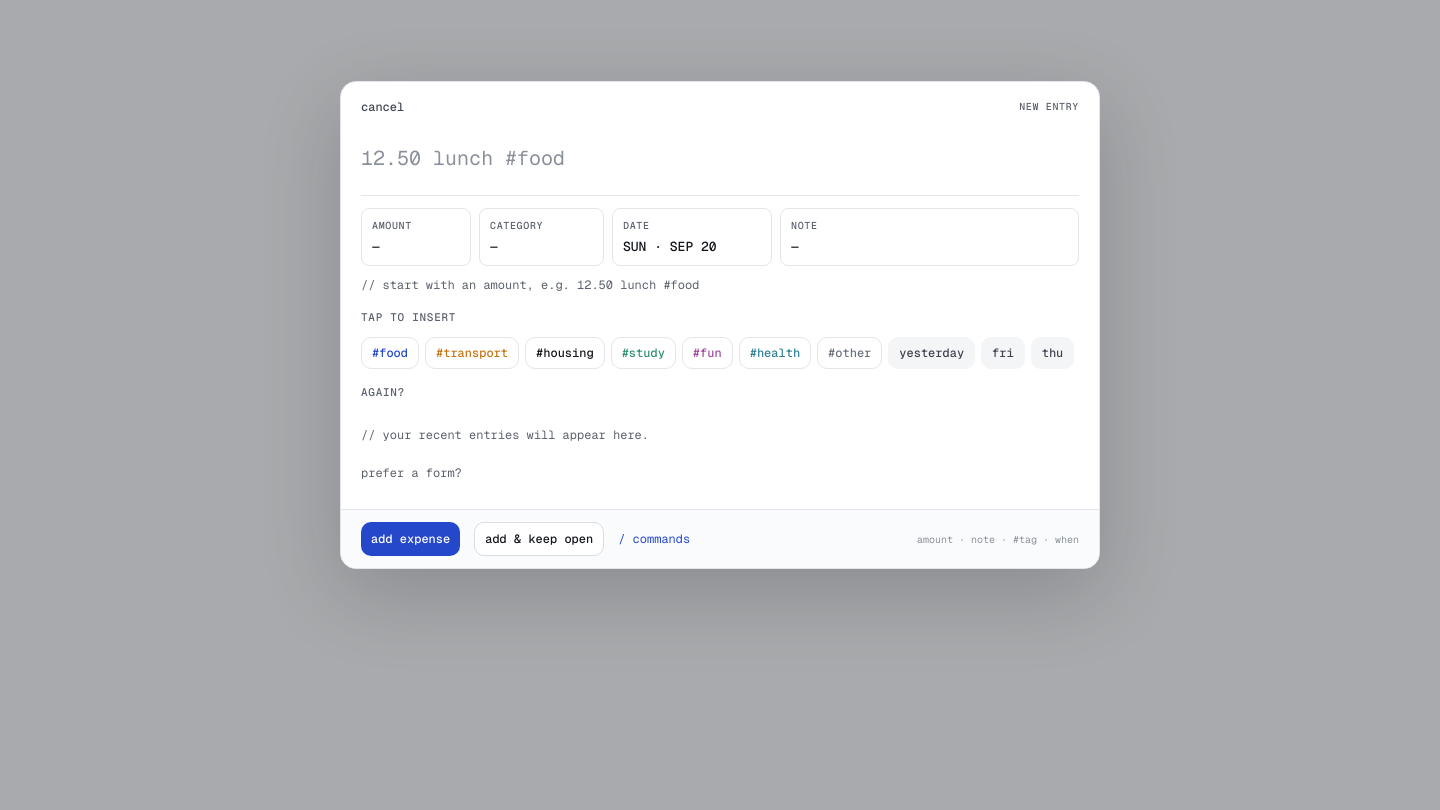
Test case: inserts tokens into an empty note without adding leading whitespace
Step 1. Click the button "#fun" → coordinates (707, 353), box left=682, top=337, right=733, bottom=369
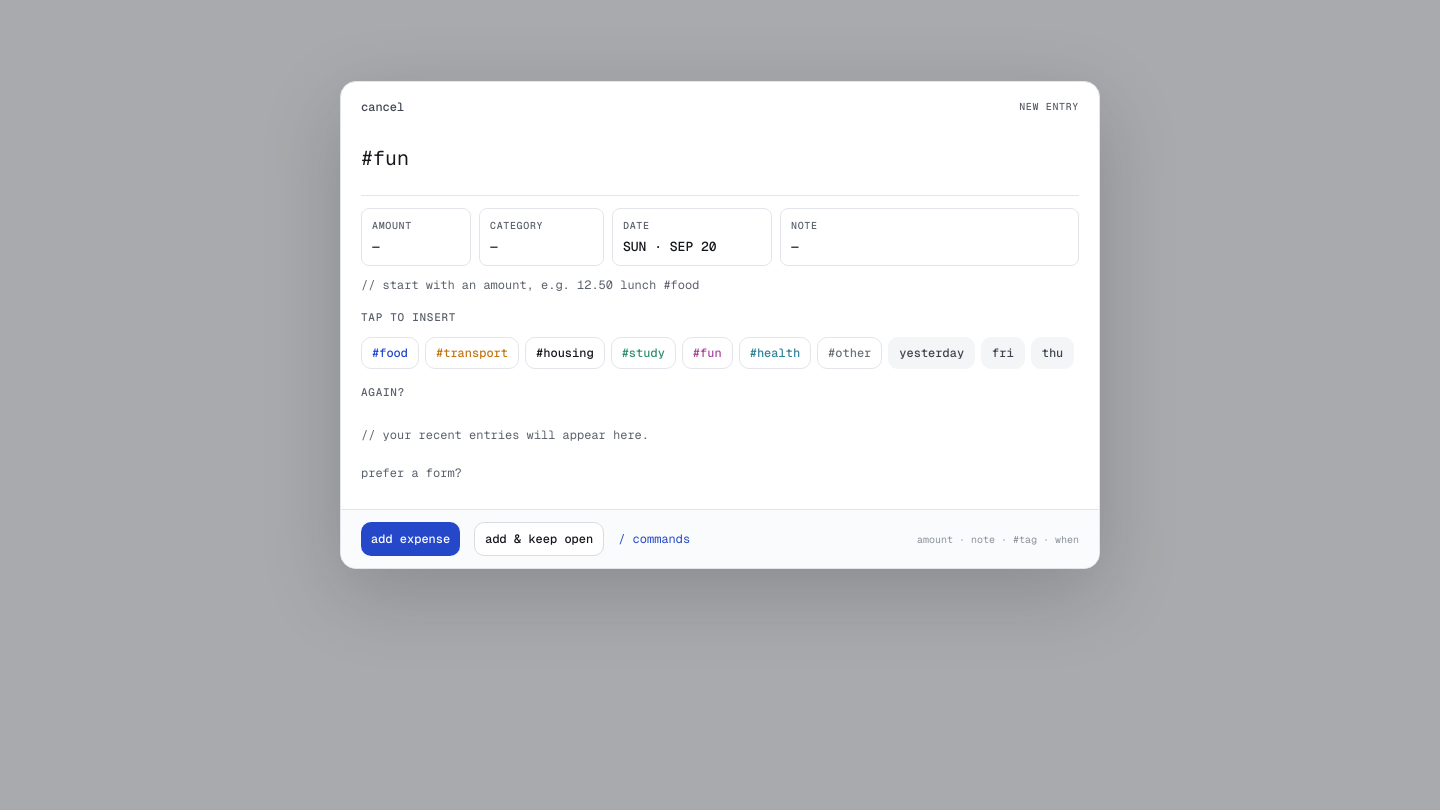
Check: the text box named "TYPE IT LIKE A NOTE" holds "#fun"
Step 2. Clear the text box named "TYPE IT LIKE A NOTE" → coordinates (720, 164), box left=361, top=132, right=1079, bottom=196
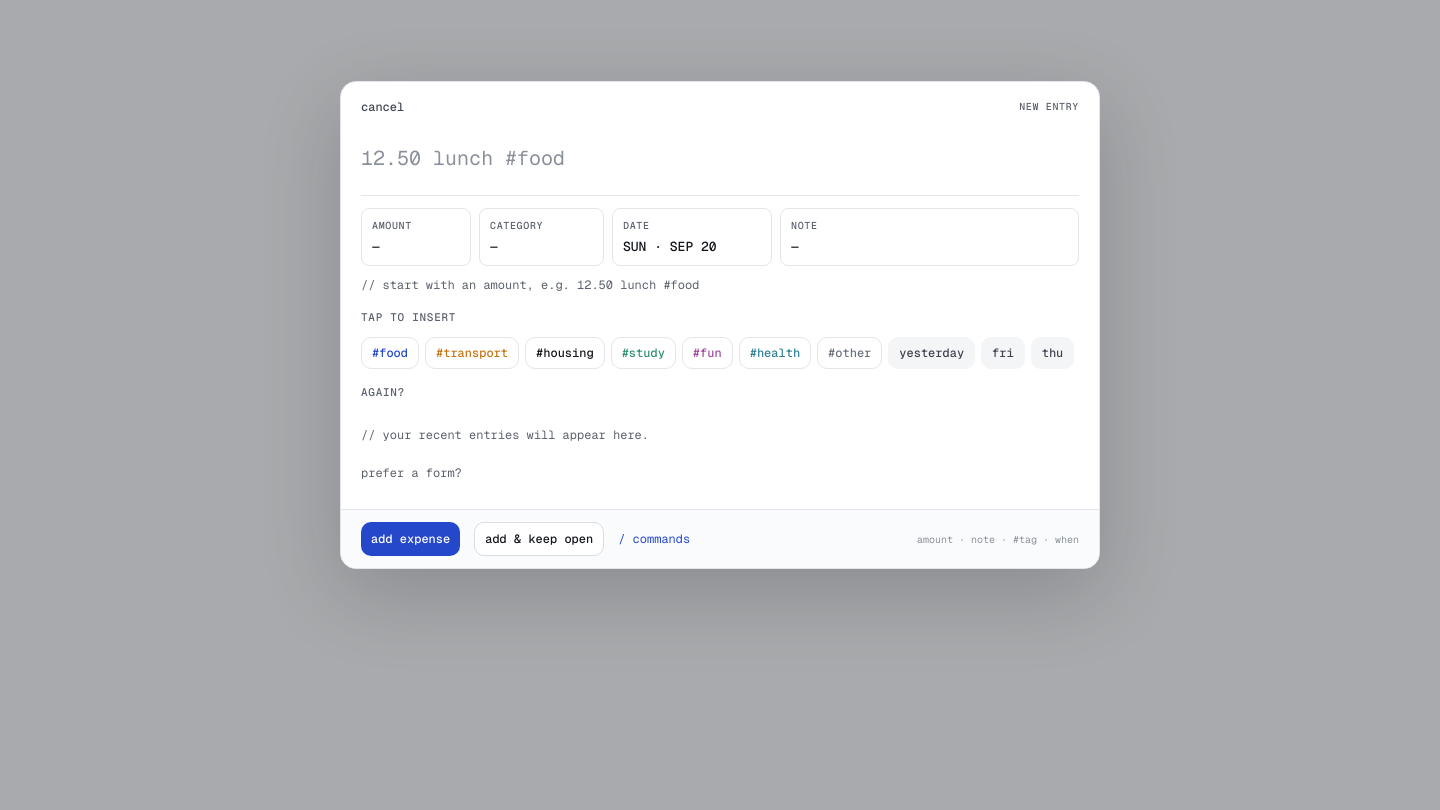
Step 3. Click the button "fri" → coordinates (1003, 353), box left=981, top=337, right=1025, bottom=369
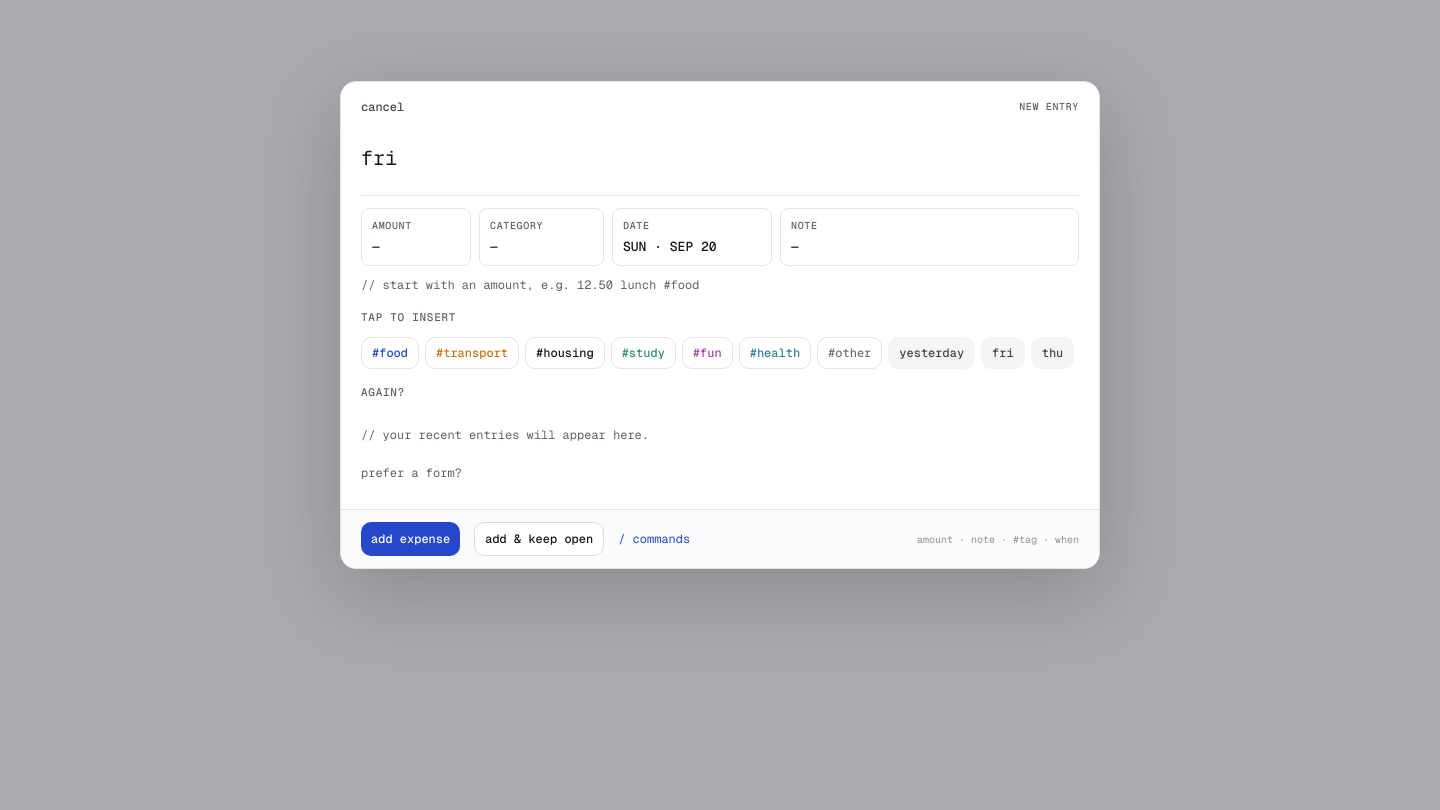
Check: the text box named "TYPE IT LIKE A NOTE" holds "fri", box left=361, top=132, right=1079, bottom=196
